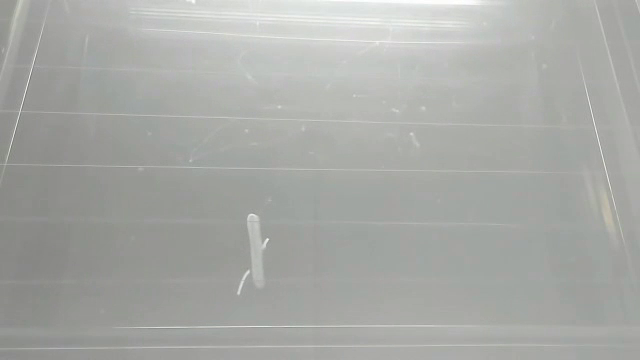alpha: (234, 237, 280, 300), (244, 211, 271, 291)
